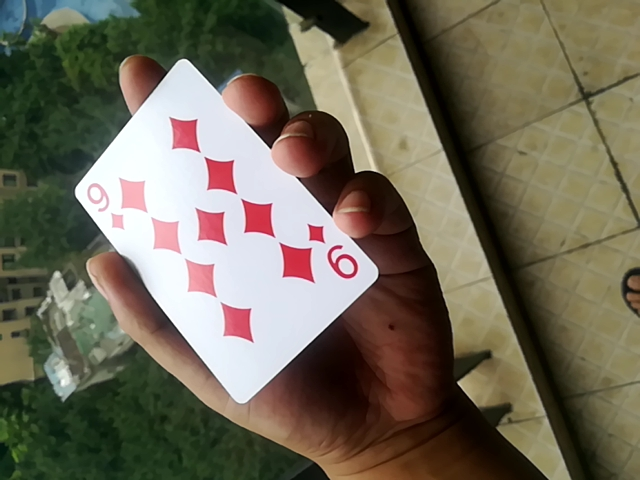fk 9: (62, 54, 379, 412)
